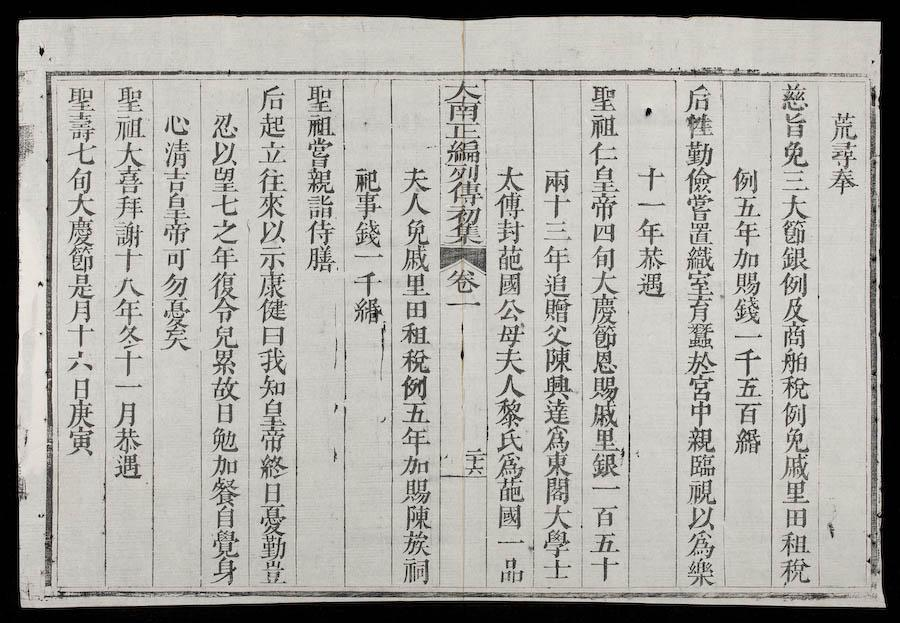c: (826, 109, 860, 141), (444, 266, 481, 295), (303, 82, 336, 114), (112, 83, 146, 114), (776, 556, 813, 584), (778, 80, 811, 111), (160, 137, 192, 168), (208, 476, 241, 506), (64, 426, 97, 456), (64, 112, 98, 141), (825, 167, 860, 195), (350, 296, 385, 324), (588, 294, 620, 324), (256, 504, 288, 534), (303, 138, 335, 168), (588, 83, 620, 113), (493, 163, 526, 192), (399, 425, 432, 454), (207, 270, 240, 299), (112, 166, 146, 194), (683, 558, 717, 586), (683, 530, 717, 558), (111, 348, 145, 376), (493, 346, 527, 374), (495, 555, 526, 585), (683, 82, 714, 112), (209, 528, 241, 557), (731, 296, 763, 325), (588, 165, 620, 194), (256, 83, 288, 112), (732, 426, 764, 455), (352, 219, 384, 248), (446, 181, 483, 206), (683, 166, 716, 194), (304, 244, 337, 272), (399, 557, 432, 585), (589, 451, 622, 479), (256, 346, 289, 374), (540, 529, 573, 557), (399, 165, 432, 193), (111, 220, 144, 248), (443, 79, 483, 102), (112, 114, 146, 141), (778, 193, 812, 220), (444, 140, 482, 164), (683, 349, 718, 375), (732, 346, 763, 375), (779, 139, 810, 168), (209, 110, 240, 139), (494, 398, 525, 427), (65, 399, 97, 427), (65, 216, 97, 244), (635, 163, 667, 191), (684, 425, 716, 453), (111, 452, 144, 479), (493, 192, 526, 219), (399, 347, 432, 374), (159, 325, 192, 352), (208, 558, 241, 585), (634, 216, 667, 243), (256, 452, 289, 479), (255, 271, 288, 298), (255, 166, 288, 193), (777, 530, 811, 556), (63, 348, 97, 374), (111, 297, 145, 323), (112, 141, 146, 167), (730, 164, 760, 193), (683, 139, 714, 167), (257, 398, 288, 426), (779, 111, 810, 139), (588, 193, 619, 221), (494, 244, 526, 271), (541, 244, 573, 271), (541, 425, 573, 452), (65, 272, 97, 299), (685, 478, 717, 505), (684, 322, 716, 349), (400, 477, 432, 504), (256, 112, 288, 139), (635, 271, 667, 298), (683, 245, 716, 271), (112, 194, 145, 220), (64, 84, 97, 110), (445, 223, 484, 245), (588, 555, 621, 581), (826, 141, 859, 167), (778, 245, 811, 271), (64, 192, 98, 217), (540, 504, 574, 529), (731, 219, 762, 246), (494, 503, 525, 530), (159, 271, 190, 298), (209, 217, 240, 244), (542, 477, 573, 504), (684, 194, 715, 221), (542, 346, 573, 373), (541, 167, 572, 194), (444, 101, 482, 123), (494, 477, 526, 503), (635, 244, 667, 270), (400, 246, 432, 272), (304, 168, 336, 194), (780, 453, 812, 479), (588, 113, 620, 139), (541, 451, 573, 477), (400, 504, 432, 530), (683, 297, 715, 323), (683, 271, 715, 297), (65, 245, 97, 271), (778, 271, 810, 297), (256, 140, 288, 166), (400, 530, 432, 556), (683, 112, 715, 138), (778, 348, 810, 374), (541, 297, 573, 323), (587, 140, 620, 165), (256, 298, 289, 323), (303, 219, 336, 244), (684, 505, 717, 530), (111, 274, 145, 298), (402, 218, 431, 246), (209, 425, 239, 452), (160, 193, 190, 220), (257, 426, 288, 452), (779, 400, 810, 426), (589, 375, 620, 401), (112, 426, 143, 452), (779, 219, 810, 245), (209, 167, 240, 193), (114, 322, 145, 348), (352, 269, 383, 295), (589, 502, 620, 528), (685, 375, 716, 401), (732, 400, 763, 426), (589, 401, 620, 427), (731, 270, 762, 296), (256, 219, 287, 245), (399, 374, 430, 400), (352, 192, 383, 218), (541, 399, 572, 425), (208, 298, 240, 323), (589, 530, 621, 555), (112, 247, 144, 272), (685, 453, 717, 478), (209, 375, 241, 400), (208, 244, 240, 269), (779, 375, 811, 400), (256, 245, 288, 270), (541, 374, 573, 399), (399, 321, 431, 346), (255, 193, 287, 218), (303, 114, 336, 138), (64, 323, 97, 347), (65, 141, 98, 165), (113, 398, 141, 426), (540, 558, 574, 581), (352, 166, 382, 192), (444, 205, 483, 225), (495, 452, 525, 478), (209, 349, 239, 375), (209, 140, 239, 166), (589, 270, 620, 295), (304, 194, 335, 219), (209, 324, 240, 349), (161, 111, 192, 136), (495, 322, 526, 347), (160, 298, 191, 323), (257, 534, 288, 559), (160, 220, 191, 245), (780, 479, 811, 504), (589, 427, 620, 452), (160, 246, 191, 271), (399, 400, 430, 425), (494, 219, 525, 244), (541, 219, 573, 243), (400, 193, 432, 217), (494, 298, 526, 322), (781, 427, 810, 453), (779, 322, 808, 348), (161, 168, 191, 193), (731, 194, 761, 219), (258, 559, 288, 584), (685, 400, 715, 425), (779, 297, 809, 322), (541, 272, 571, 297), (209, 193, 240, 217), (257, 374, 288, 398), (495, 374, 526, 398), (780, 504, 811, 528), (779, 168, 810, 192), (541, 323, 572, 347), (541, 194, 572, 218), (730, 247, 762, 270), (208, 453, 240, 476), (589, 244, 617, 270), (590, 324, 619, 349), (65, 166, 94, 191), (590, 349, 619, 374), (495, 272, 524, 297), (685, 221, 715, 245), (495, 428, 525, 452), (443, 122, 483, 140), (66, 298, 96, 322), (399, 454, 431, 476), (443, 296, 482, 314), (444, 164, 483, 182), (401, 273, 430, 297), (733, 376, 763, 399), (210, 505, 240, 528), (67, 375, 94, 399), (258, 480, 285, 504), (210, 400, 238, 423), (258, 324, 287, 346), (402, 298, 430, 320), (590, 221, 618, 243), (634, 196, 669, 213), (589, 481, 622, 498), (111, 378, 145, 394), (495, 535, 527, 551), (731, 329, 764, 344), (351, 250, 385, 264), (464, 448, 486, 456), (465, 465, 484, 474), (465, 456, 485, 464)
